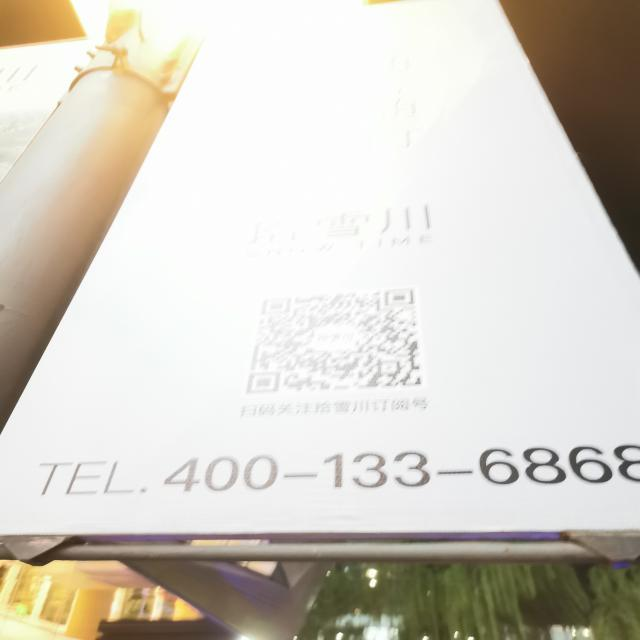qr_code: (248, 288, 422, 394)
